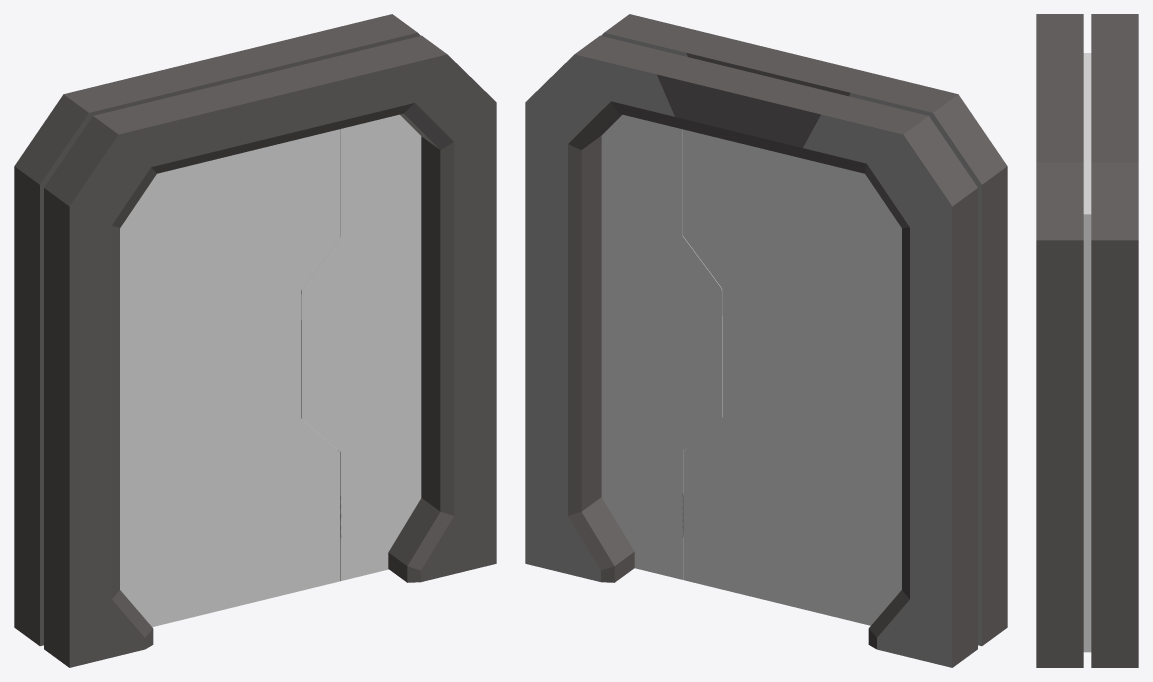
Rendered from Porta.fbx.
3 renders of one model, left to right at view 1: azimuth 30°, elevation 25°; view 2: azimuth 150°, elevation 25°; view 3: azimuth 270°, elevation 25°, orthographic. The views are drawn at different scales.
Parts seen in each view (by area): view 1: Porta Moldura, Porta Slider Esquerda, Porta Slider Direita; view 2: Porta Moldura, Porta Slider Esquerda, Porta Slider Direita; view 3: Porta Moldura, Porta Slider Direita, Porta Slider Esquerda.
Part boxes in pixels (x1,y1,x2,y2): Porta Moldura: [14, 14, 496, 667]; Porta Slider Esquerda: [120, 129, 340, 626]; Porta Slider Direita: [301, 114, 421, 580]; Porta Moldura: [525, 14, 1007, 667]; Porta Slider Esquerda: [683, 129, 901, 625]; Porta Slider Direita: [601, 114, 722, 579]; Porta Moldura: [1036, 14, 1138, 667]; Porta Slider Direita: [1083, 170, 1091, 652]; Porta Slider Esquerda: [1083, 53, 1091, 169].
Size of the model in its own units: 240 by 280 by 53.65.
1 material, 1 textured.
